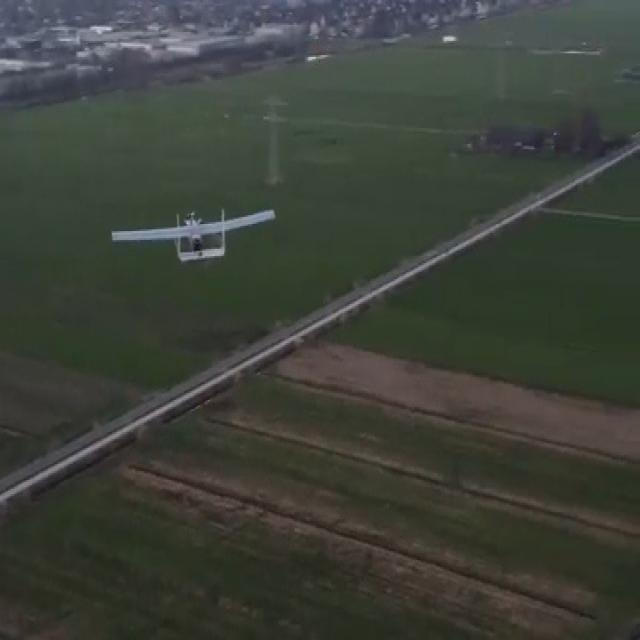iha: (112, 209, 278, 264)
